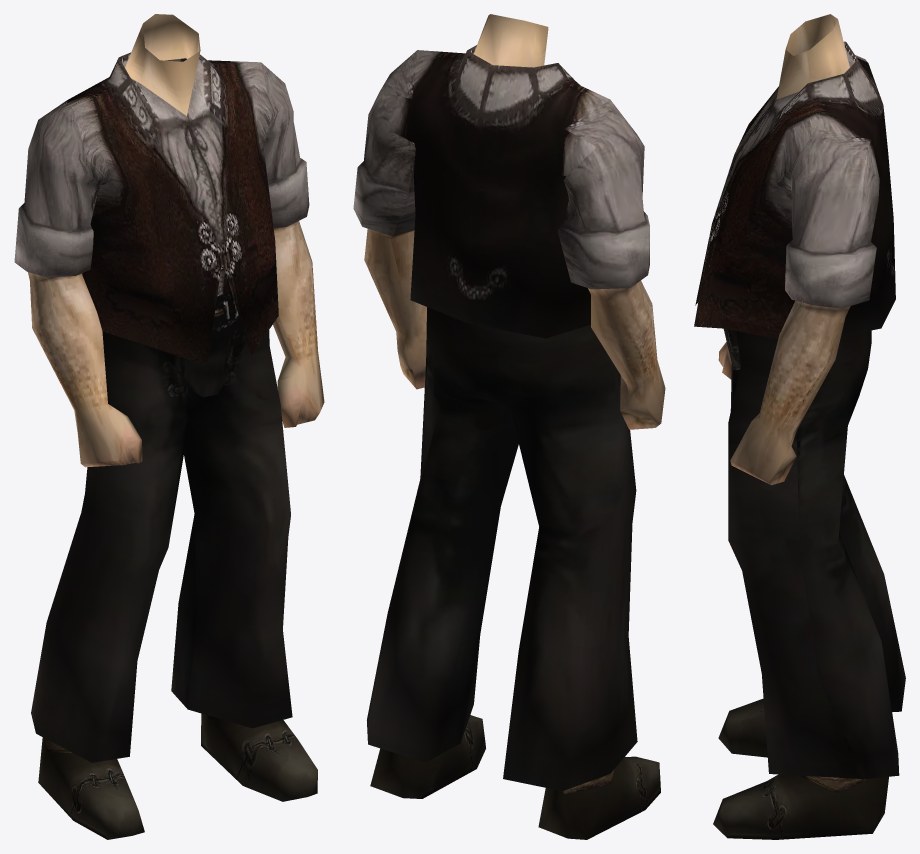
The model's file is ARMOR_BAU_M_01.glb.
3 renders of one model, left to right at view 1: azimuth 30°, elevation 25°; view 2: azimuth 150°, elevation 25°; view 3: azimuth 270°, elevation 25°, orthographic. The views are drawn at different scales.
Visible parts, largest first — view 1: ARMOR_BAU_M_01; view 2: ARMOR_BAU_M_01; view 3: ARMOR_BAU_M_01.
Part boxes in pixels (x1=…): ARMOR_BAU_M_01: x1=14, y1=14, x2=324, y2=839; ARMOR_BAU_M_01: x1=353, y1=14, x2=665, y2=839; ARMOR_BAU_M_01: x1=694, y1=14, x2=905, y2=839.
Size of the model in its own units: 0.6416 by 1.69 by 0.4237.
2 materials, 2 textured.
